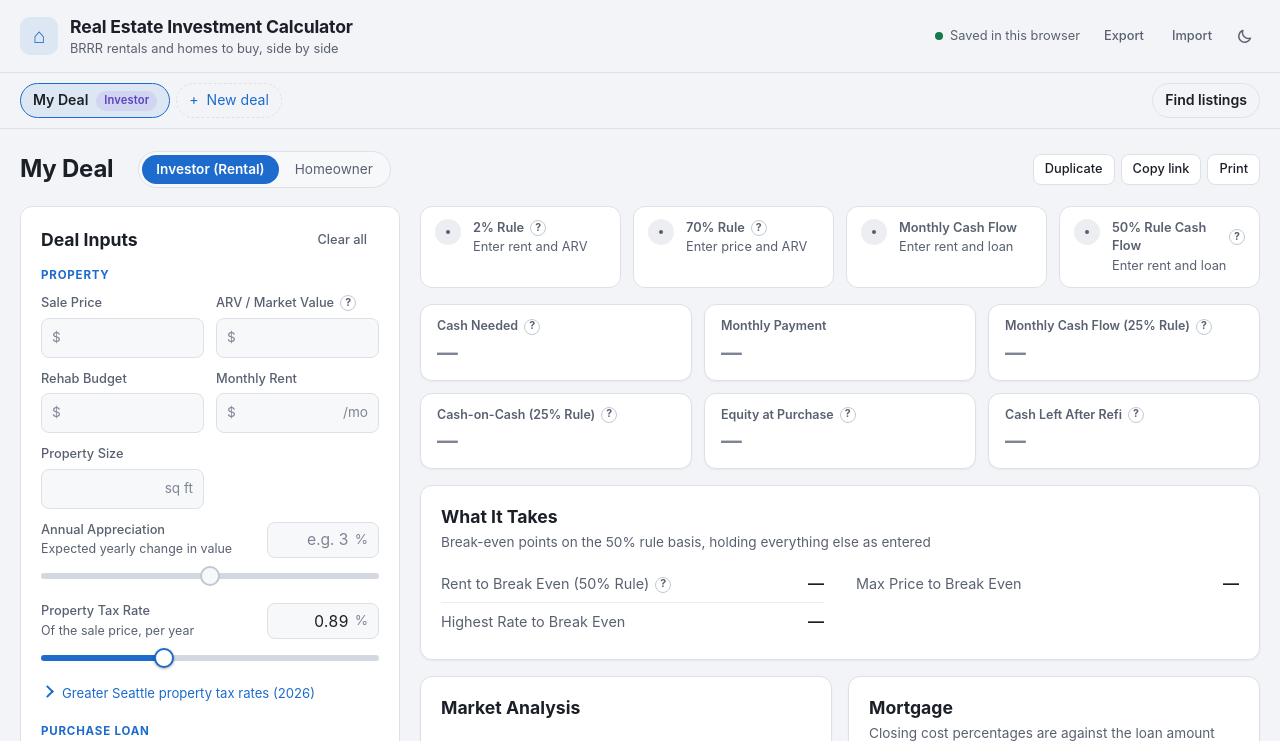
App › renames a deal inline
Clear the field named "Deal name" at {"x": 67, "y": 169}, box [11,149,122,190]
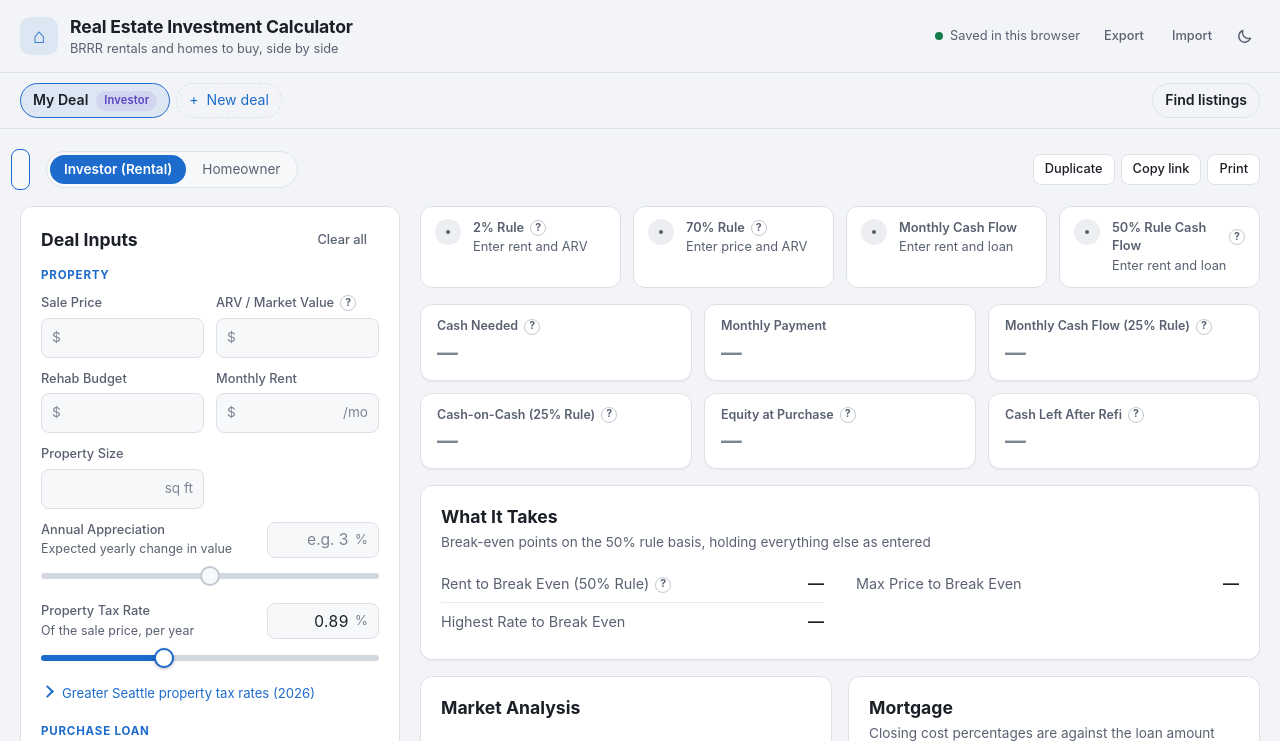
Type "Duplex on Main" into the field named "Deal name".
click(20, 169); type("Duplex on Main")  # box [11,149,30,190]
Then press Enter
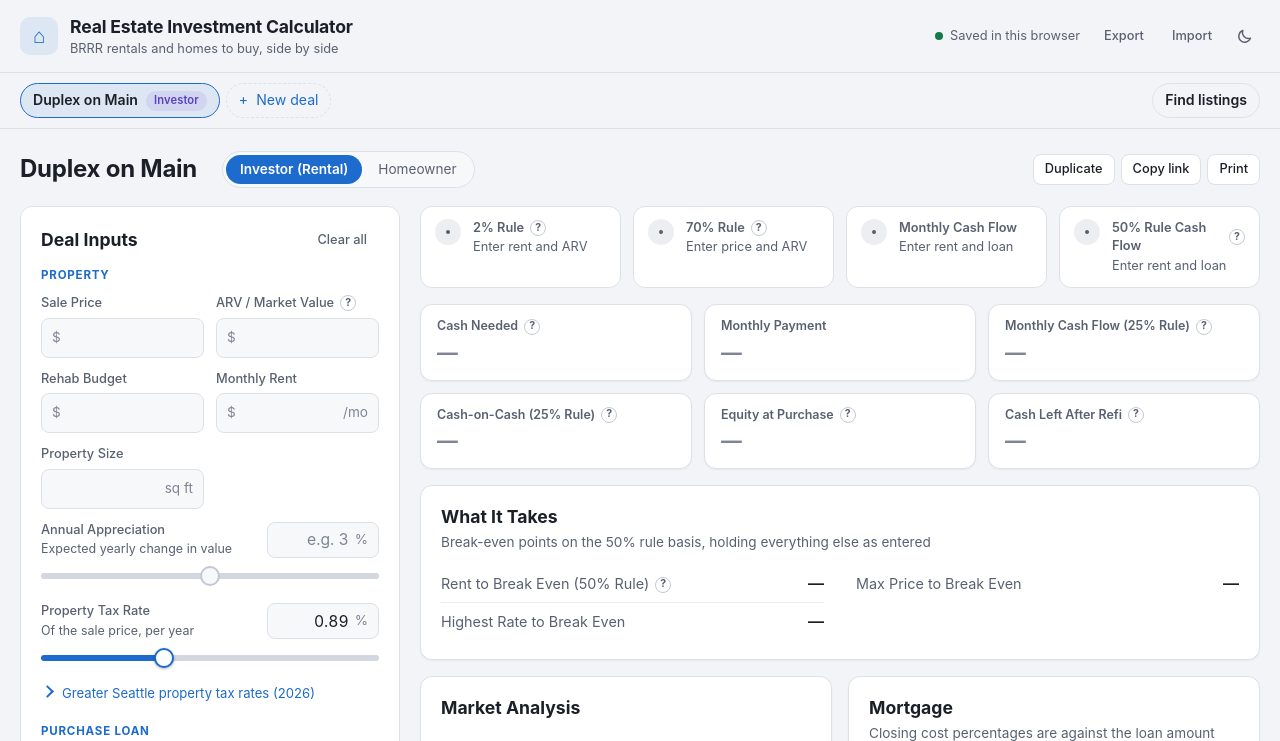
Now the text "Duplex on Main" is shown, box [33,90,138,111]
